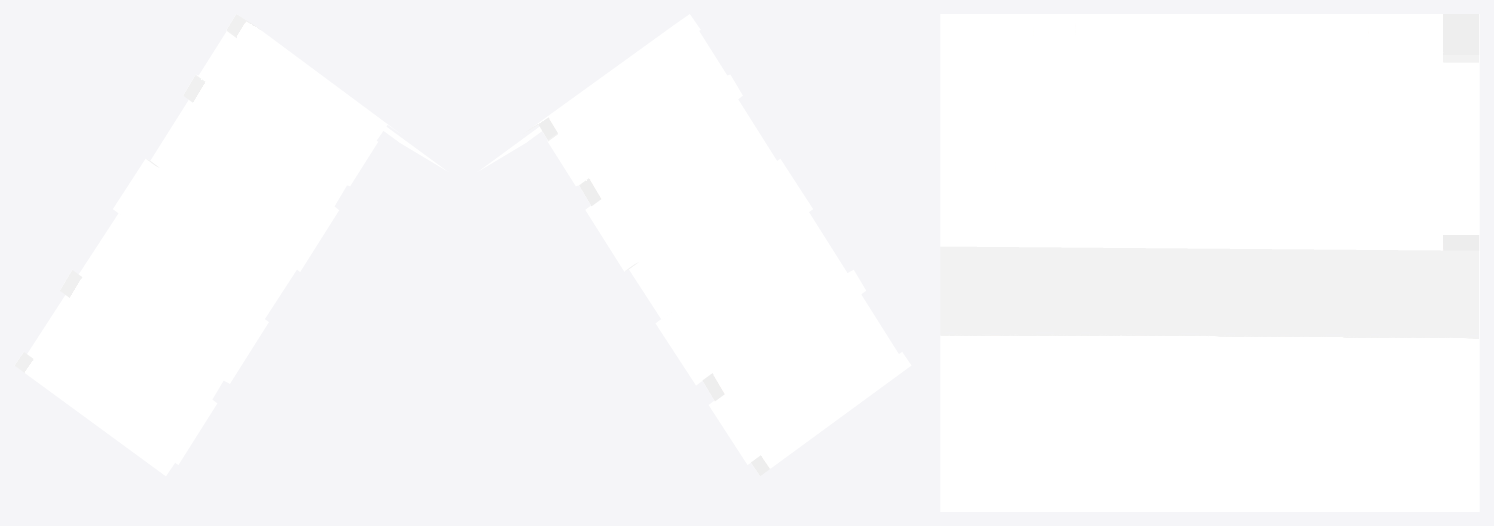
The picture shows the model from 3 angles, left to right: view 1: azimuth 30°, elevation 25°; view 2: azimuth 150°, elevation 25°; view 3: azimuth 270°, elevation 25°; orthographic projection. The views are drawn at different scales.
Parts seen in each view (by area): view 1: BuildingMaster_1978192919294464589500000000_0; view 2: BuildingMaster_1978192919294464589500000000_0; view 3: BuildingMaster_1978192919294464589500000000_0.
Part boxes in pixels (x1,y1,x2,y2): BuildingMaster_1978192919294464589500000000_0: (14, 14, 446, 475); BuildingMaster_1978192919294464589500000000_0: (479, 14, 911, 475); BuildingMaster_1978192919294464589500000000_0: (940, 14, 1479, 511).
Bounding box in the file's own units: 45.25 × 53.75 × 42.
